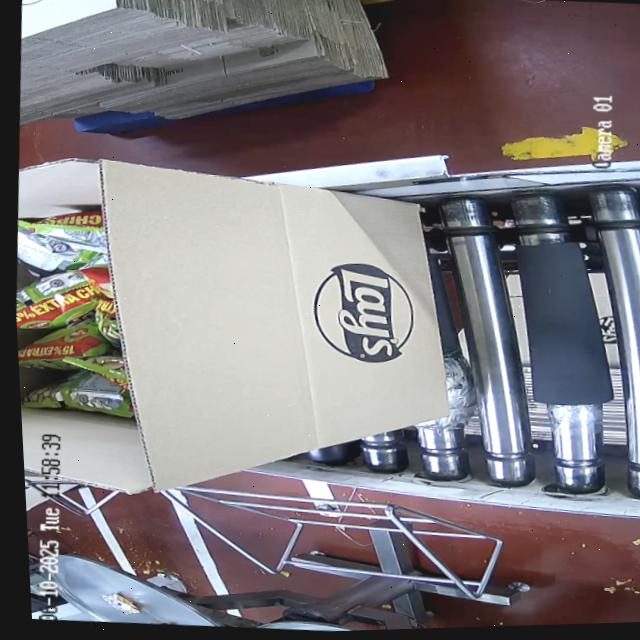YOGURT_HERB: (10, 194, 142, 419)
